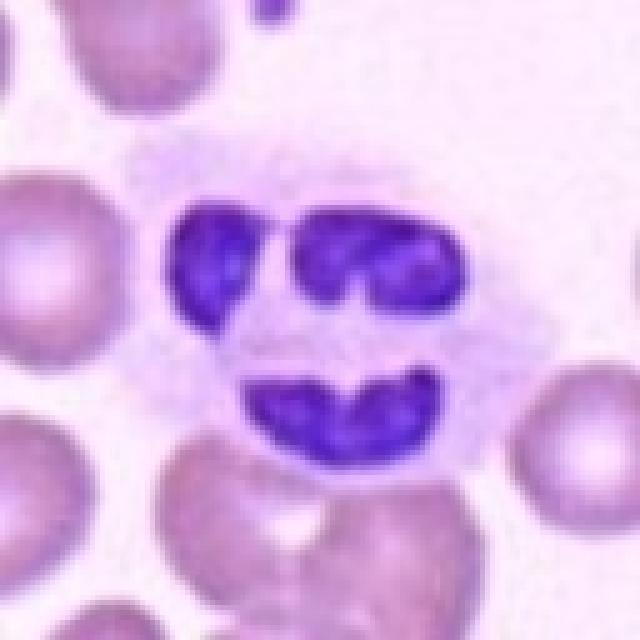neutro: (82, 102, 527, 530)
